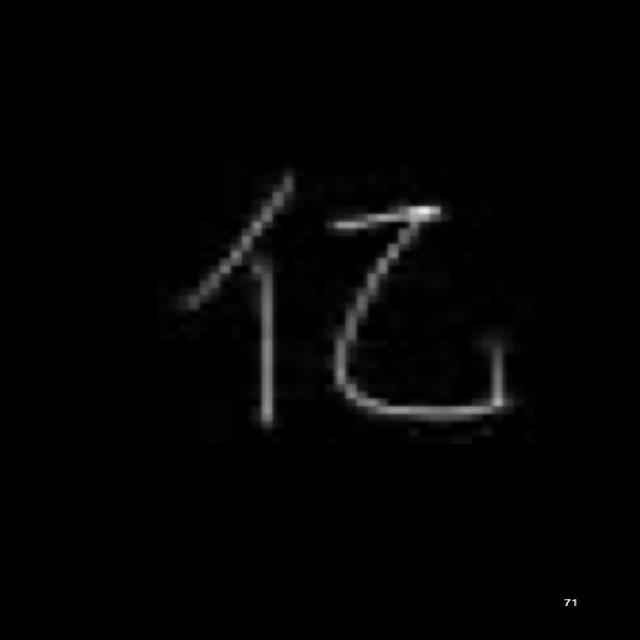100000 -a hundred thousand-: (172, 169, 519, 440)
